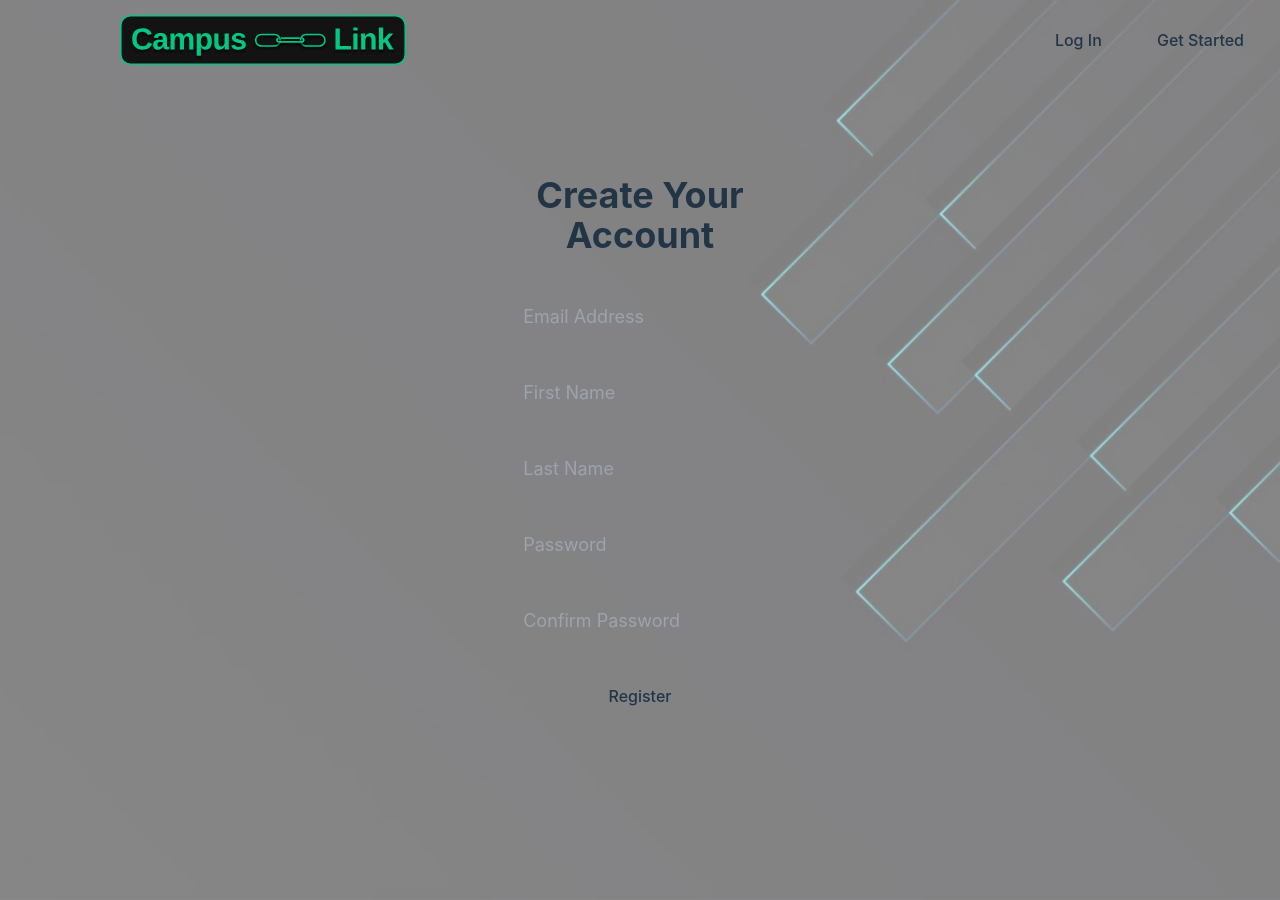
Test case: Register Page UI Tests › submits form and shows success message on successful registration
Type "test@example.com" into the field with placeholder "Email Address" at [640, 317], box [507,287,773,347]
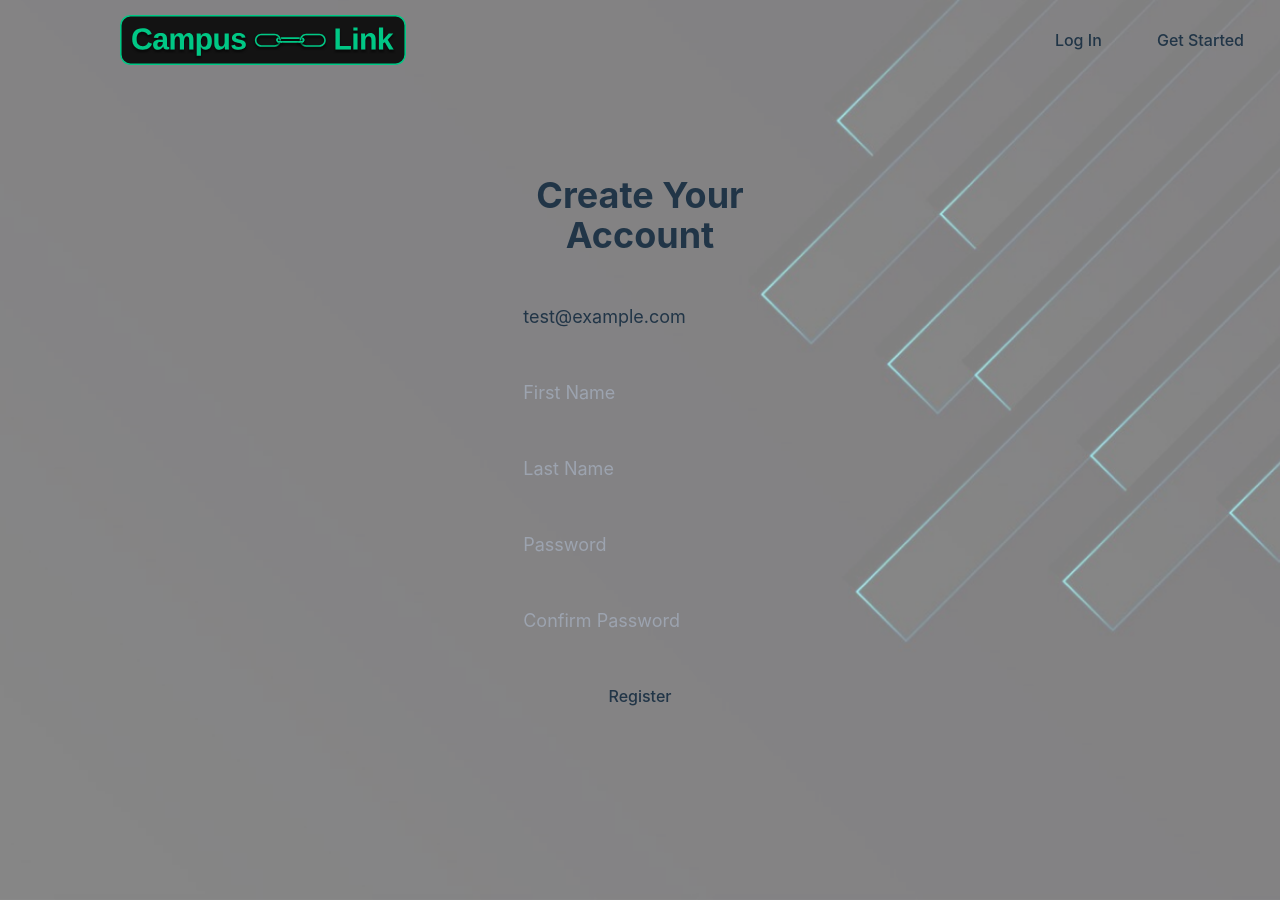
Type "John" into the field with placeholder "First Name" at [640, 393], box [507,363,773,423]
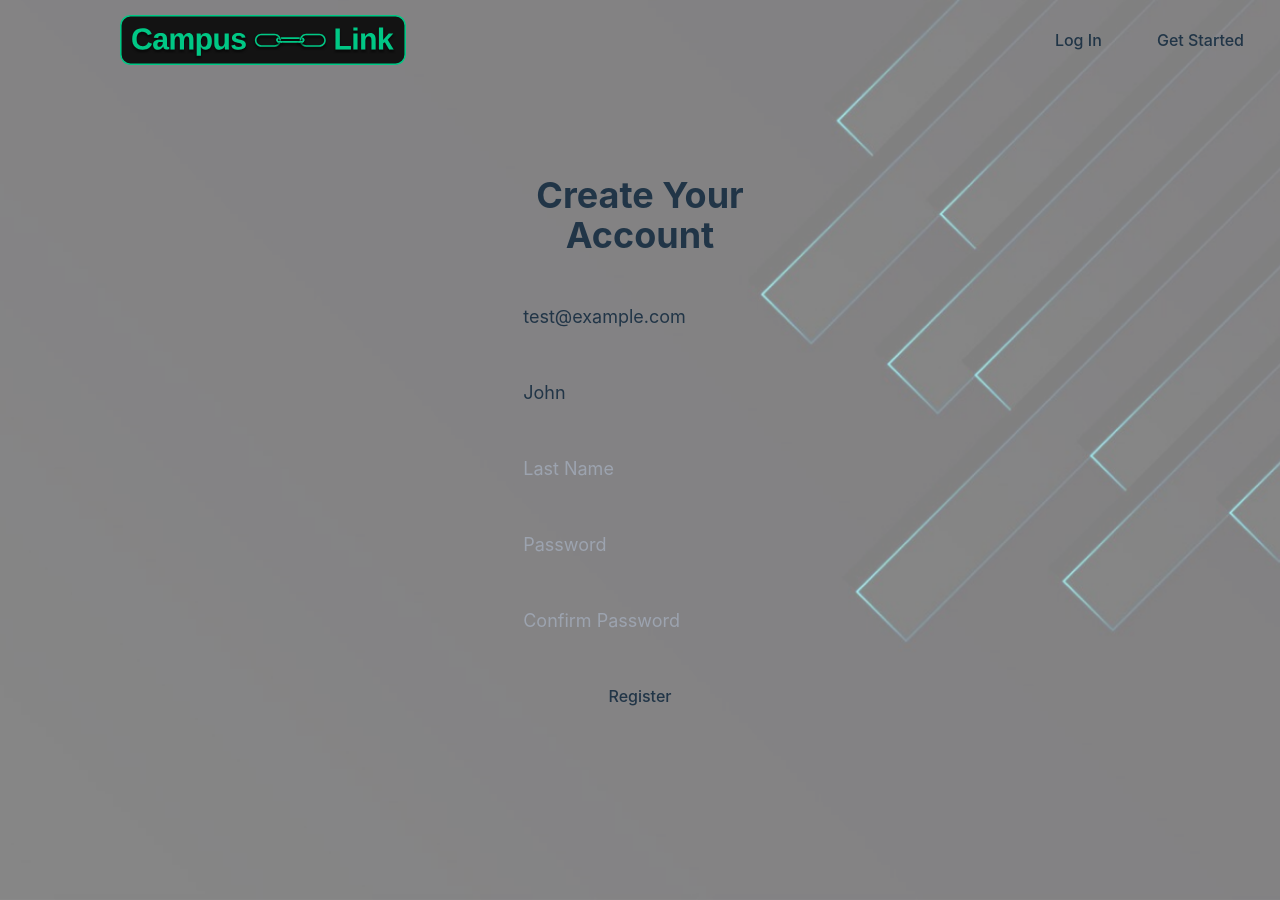
Type "Doe" into the field with placeholder "Last Name" at [640, 469], box [507,439,773,499]
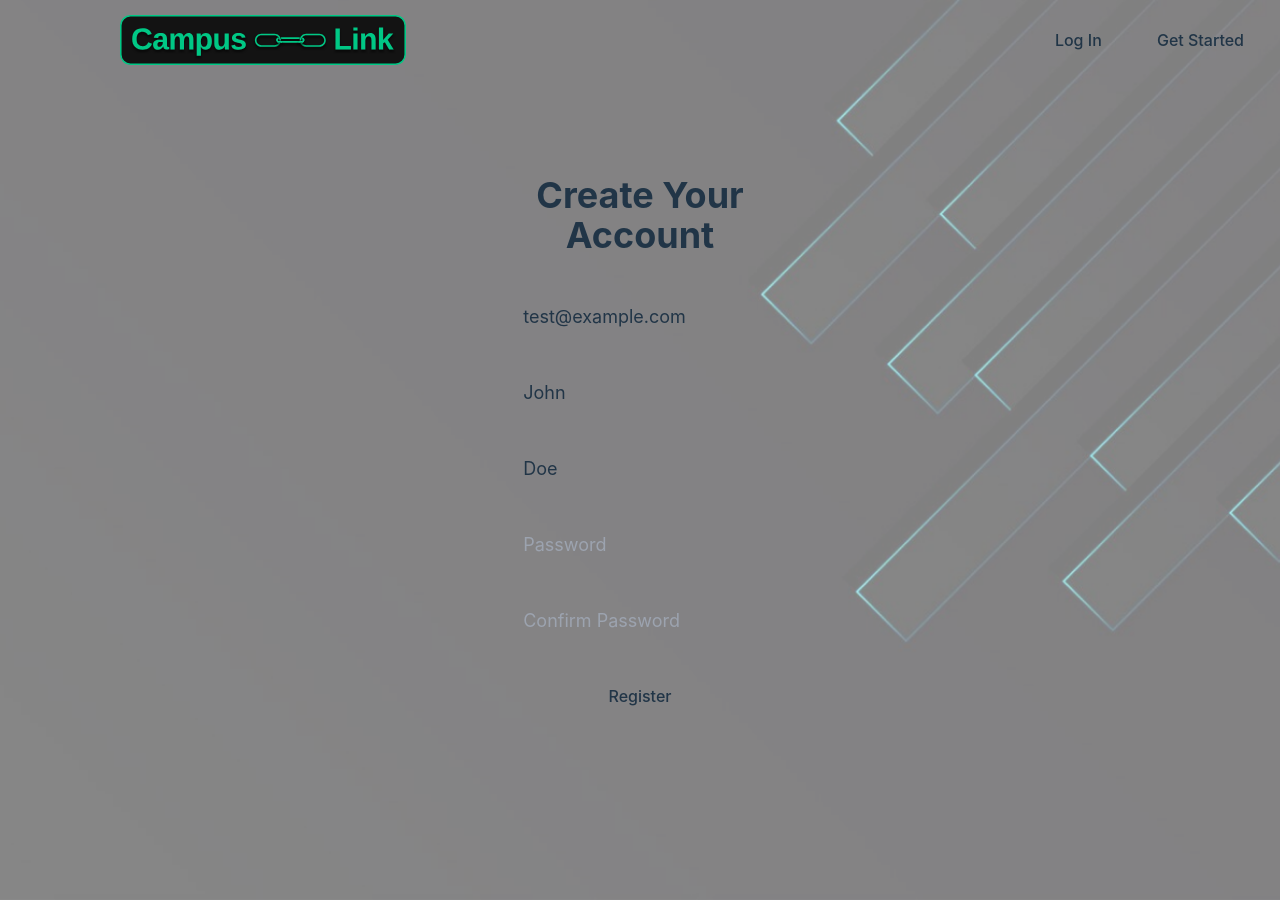
Type "TestPass123" into the password field with placeholder "Password" at [640, 545], box [507,515,773,575]
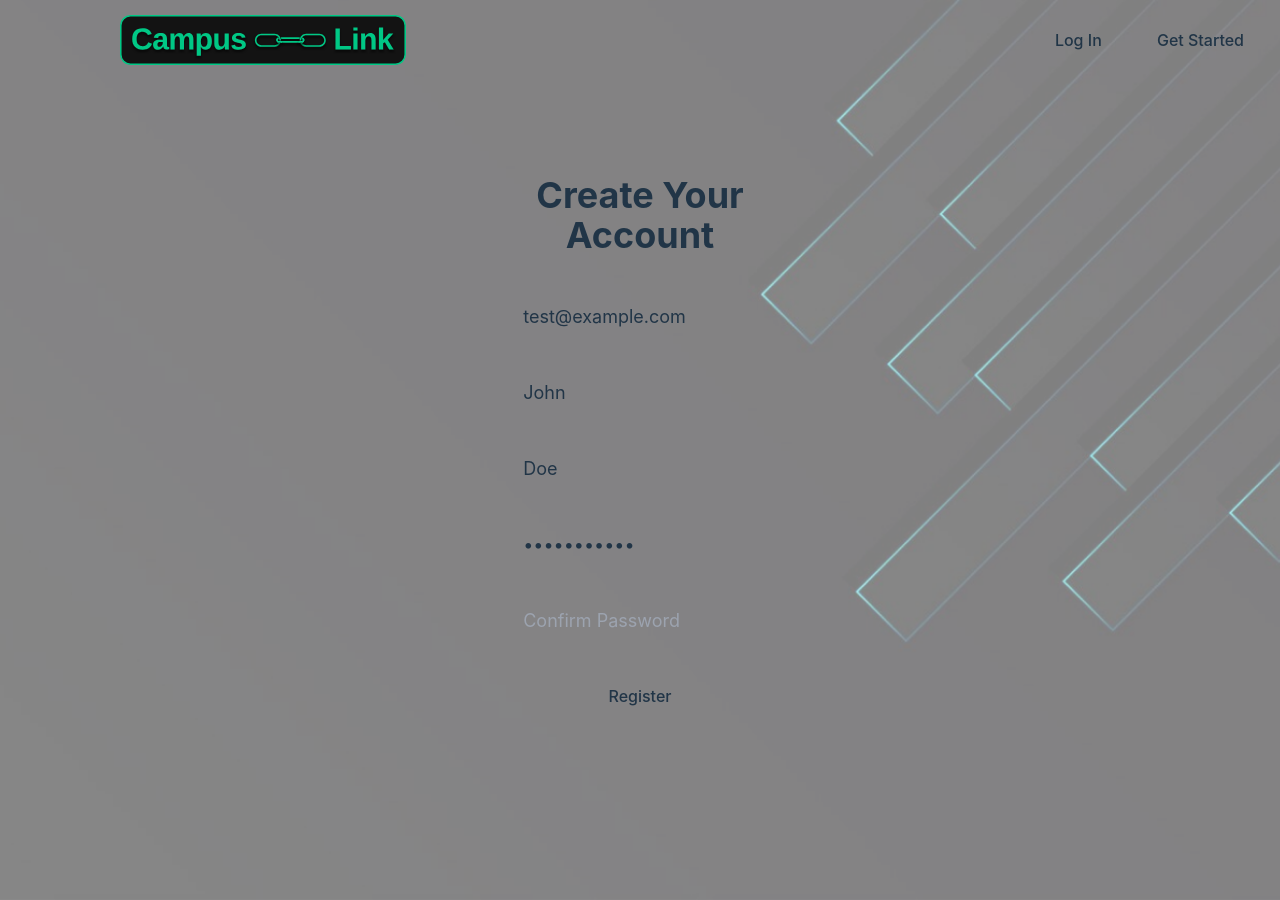
Type "TestPass123" into the password field with placeholder "Confirm Password" at [640, 621], box [507,591,773,651]
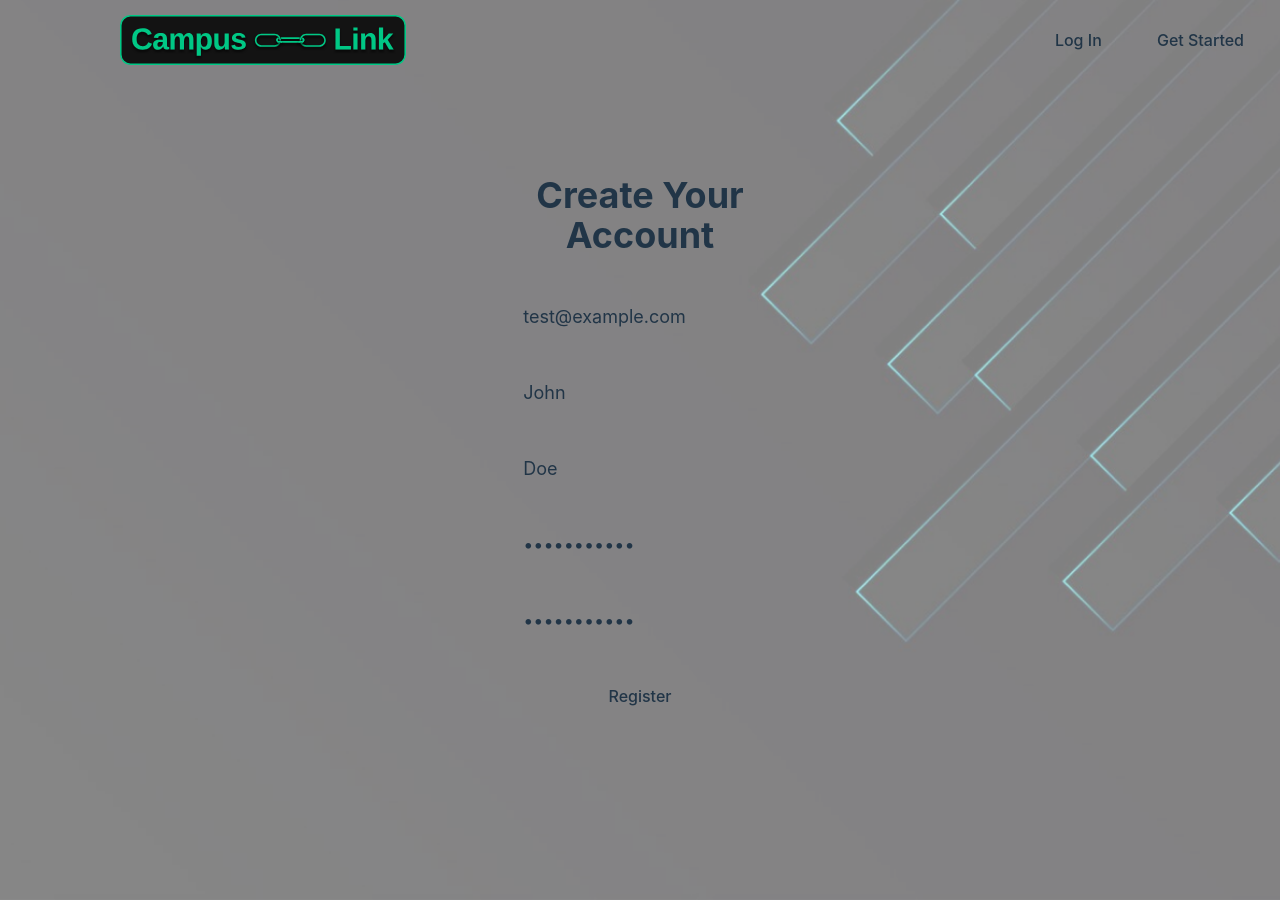
Click the button "Register" at [640, 696], box [507,667,773,725]
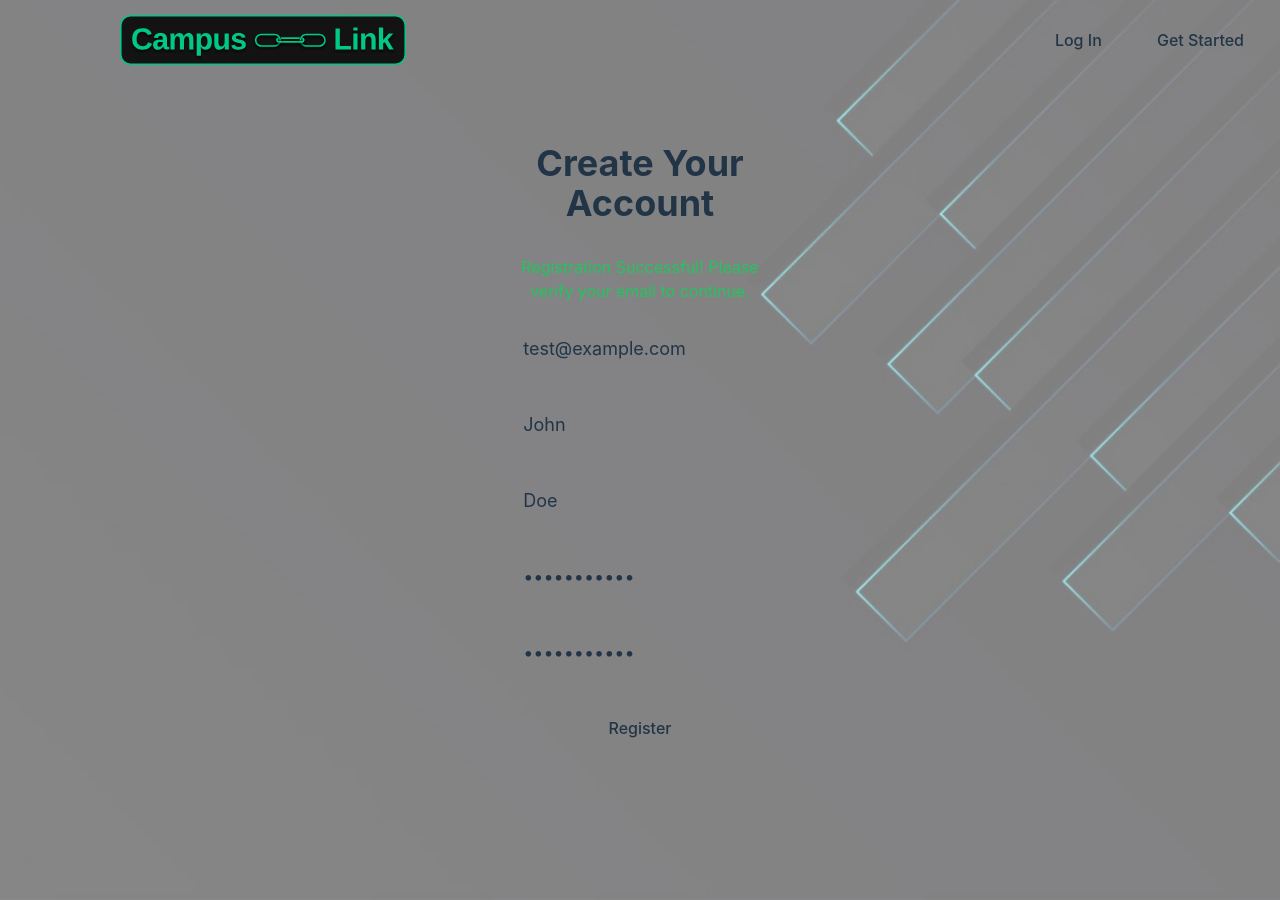
Now the text "Registration Successful! Please verify your email to continue." is shown, box [507,255,773,303]
